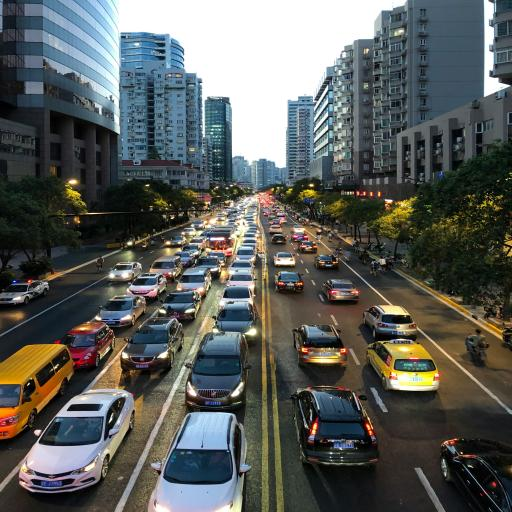bike: (465, 337, 489, 362), (484, 306, 502, 319), (503, 324, 511, 348), (400, 260, 409, 269), (126, 241, 134, 248), (370, 268, 377, 276), (142, 241, 148, 250), (380, 266, 386, 273), (97, 265, 102, 273), (150, 239, 155, 246), (328, 234, 332, 242), (345, 256, 349, 263)
car: (19, 389, 134, 493), (148, 412, 250, 511), (0, 344, 74, 439), (291, 386, 379, 465), (440, 439, 511, 511), (186, 332, 251, 410), (367, 339, 439, 390), (121, 318, 183, 370), (60, 322, 115, 368), (293, 325, 347, 366), (363, 306, 417, 339), (213, 302, 259, 339), (95, 295, 146, 326), (158, 291, 201, 320), (0, 280, 48, 305), (176, 267, 211, 296), (127, 273, 166, 298), (322, 279, 358, 302), (150, 256, 182, 281), (219, 285, 254, 307), (108, 262, 142, 281), (228, 269, 255, 291), (195, 255, 221, 277), (275, 271, 303, 291), (229, 260, 254, 274), (175, 250, 195, 267), (236, 247, 256, 262), (315, 255, 338, 268), (274, 252, 295, 266), (182, 244, 202, 257), (209, 251, 226, 266), (165, 235, 186, 246), (298, 241, 317, 253), (240, 241, 257, 254), (190, 236, 205, 250), (242, 235, 257, 247), (272, 234, 287, 244), (182, 228, 197, 238), (292, 232, 308, 241), (245, 228, 259, 238), (291, 225, 304, 234), (191, 221, 205, 229), (269, 225, 282, 233), (270, 219, 282, 226), (216, 215, 226, 222), (248, 222, 257, 229), (208, 219, 218, 225), (279, 216, 287, 223), (268, 212, 275, 219), (264, 210, 269, 216)
